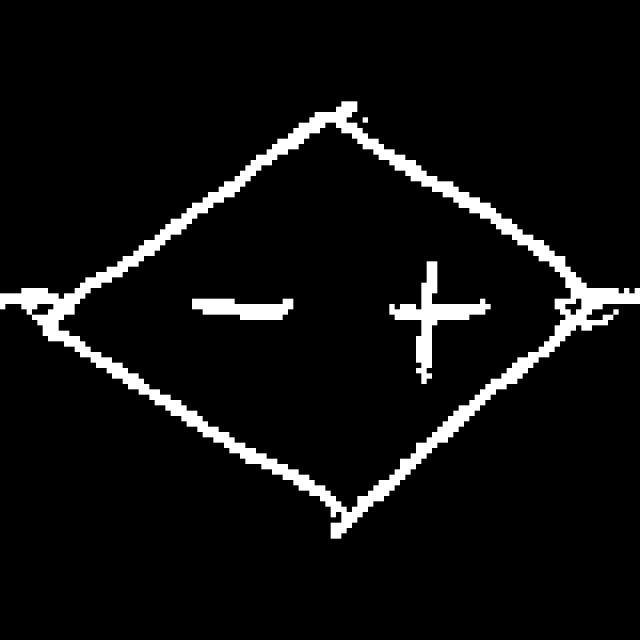dependant_voltage: (50, 98, 583, 514)
